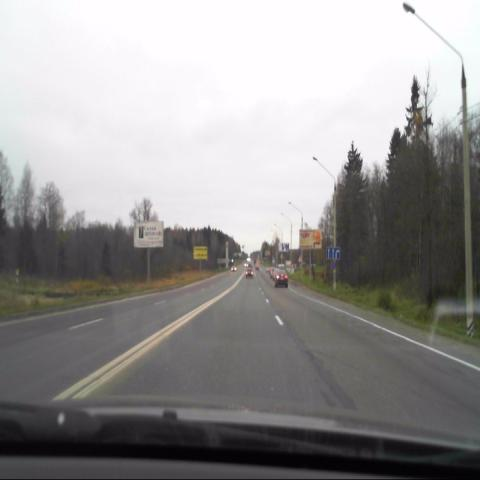5_15_1: (326, 247, 340, 259)
